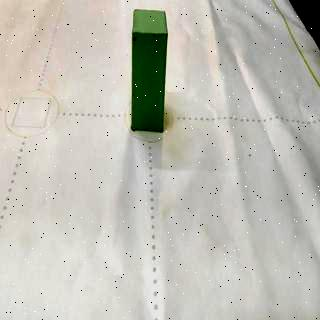greenbox: (128, 8, 170, 134)
